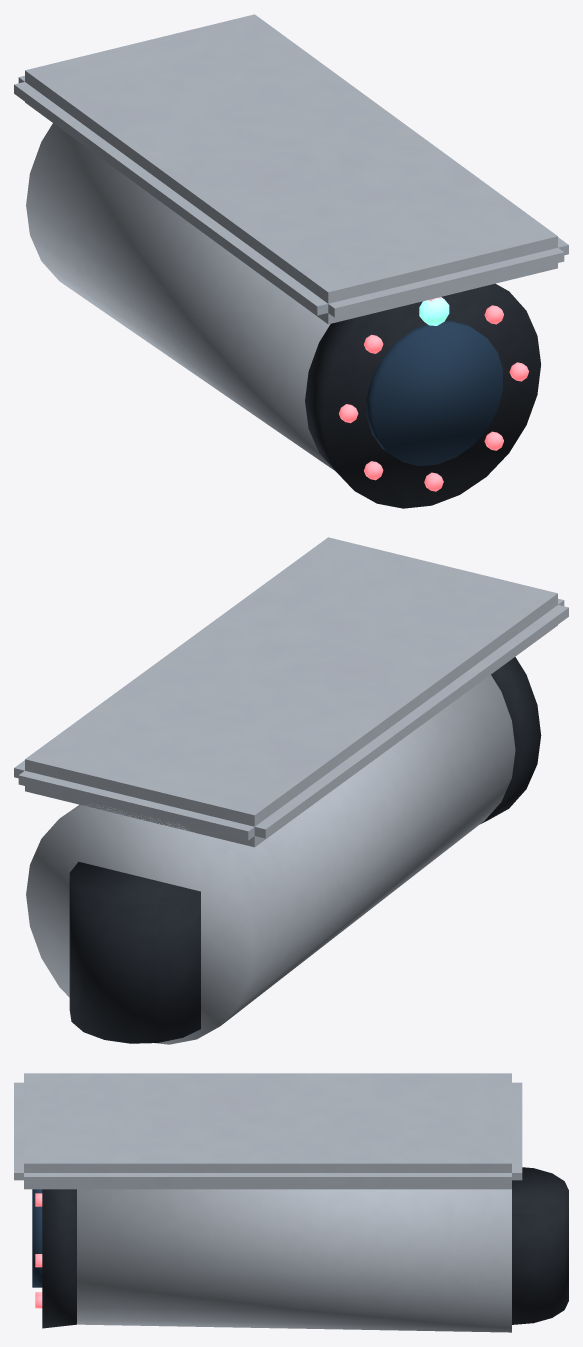
The model's file is decor_cctv_cam_head.glb.
3 renders of one model, top to bottom at view 1: azimuth 30°, elevation 25°; view 2: azimuth 150°, elevation 25°; view 3: azimuth 270°, elevation 25°, orthographic. The views are drawn at different scales.
Parts seen in each view (by area): view 1: DecorCctvCamHead; view 2: DecorCctvCamHead; view 3: DecorCctvCamHead.
Boxes of the visible parts, left/top/right/bottom form: DecorCctvCamHead: left=14, top=14, right=568, bottom=508; DecorCctvCamHead: left=14, top=537, right=568, bottom=1044; DecorCctvCamHead: left=14, top=1073, right=568, bottom=1332.
Size of the model in its own units: 0.115 by 0.111 by 0.273.
5 materials, 2 textured.
